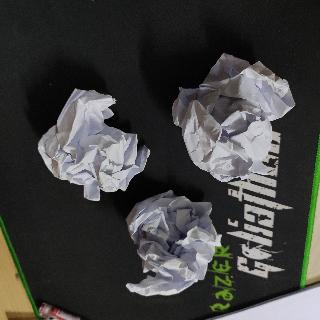8/可回收垃圾/纸: (171, 52, 296, 183), (36, 86, 151, 202), (124, 188, 223, 299)
